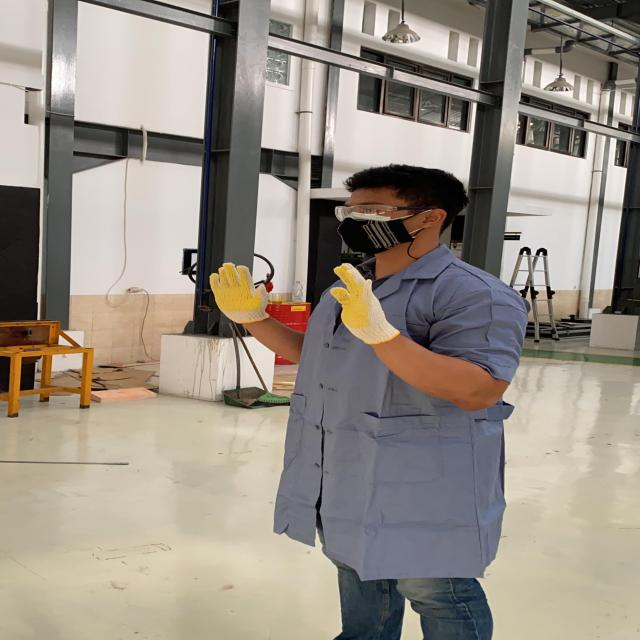face_mask: (325, 201, 412, 253)
glasses: (328, 200, 442, 222)
hand_glove: (320, 262, 411, 344), (200, 261, 280, 325)
head_nohelmet: (338, 160, 451, 198)
person: (182, 153, 544, 640)
